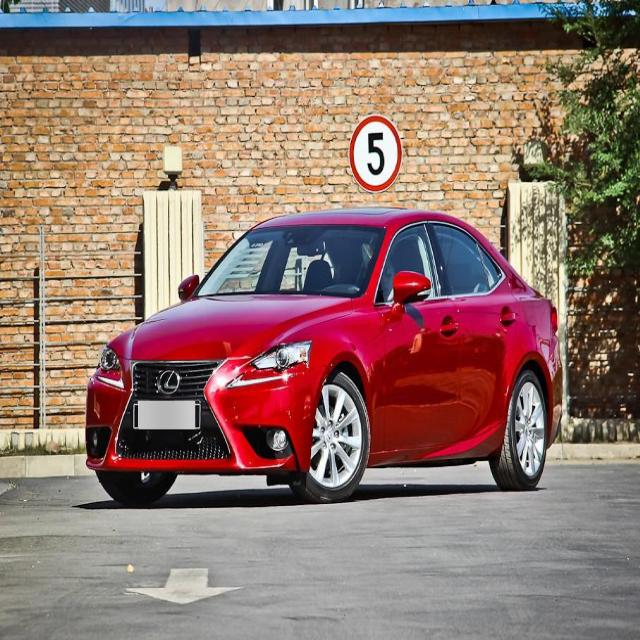back_left_side_light: (538, 296, 570, 342)
door: (432, 225, 521, 451)
front_bumper: (83, 369, 317, 482)
front_glass: (194, 212, 392, 306)
front_left_side_door: (366, 206, 467, 466)
front_left_side_light: (228, 330, 323, 396)
front_left_side_mirror: (387, 265, 438, 323)
front_right_side_light: (91, 330, 132, 403)
front_right_side_mirror: (173, 267, 203, 312)
wheel: (290, 362, 370, 504), (490, 366, 548, 497)
